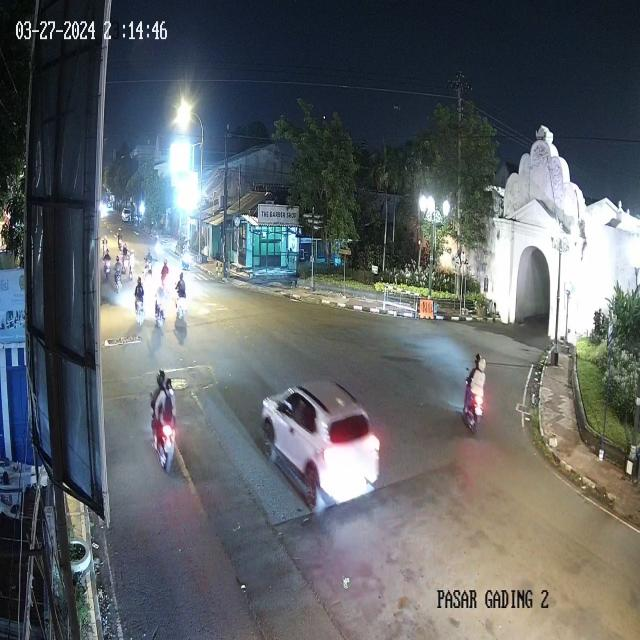car: (259, 380, 382, 514)
motorcycle: (150, 367, 184, 479), (461, 342, 488, 432), (154, 280, 167, 330), (175, 270, 187, 324), (134, 275, 145, 325), (114, 255, 124, 293), (161, 257, 170, 293), (181, 239, 190, 273), (146, 248, 154, 282), (128, 246, 136, 278), (104, 247, 110, 280), (102, 235, 109, 259), (117, 227, 123, 248)
